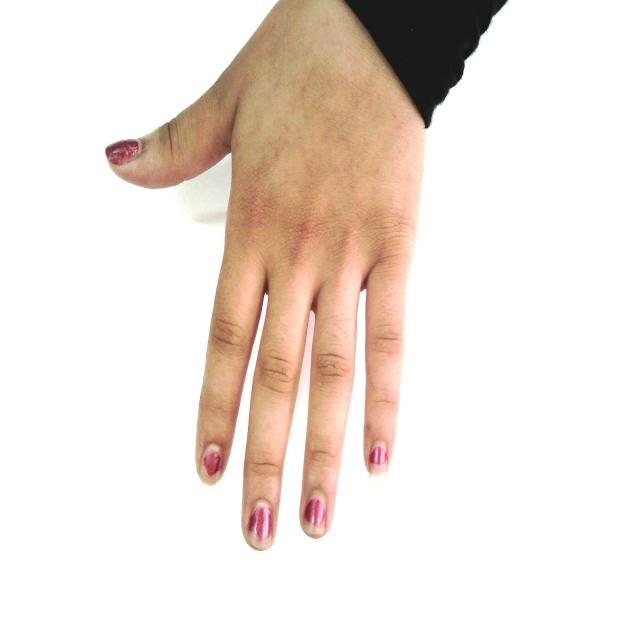Nail: (301, 491, 327, 539), (248, 501, 273, 550), (105, 139, 140, 165), (200, 444, 222, 478), (368, 442, 389, 475)
